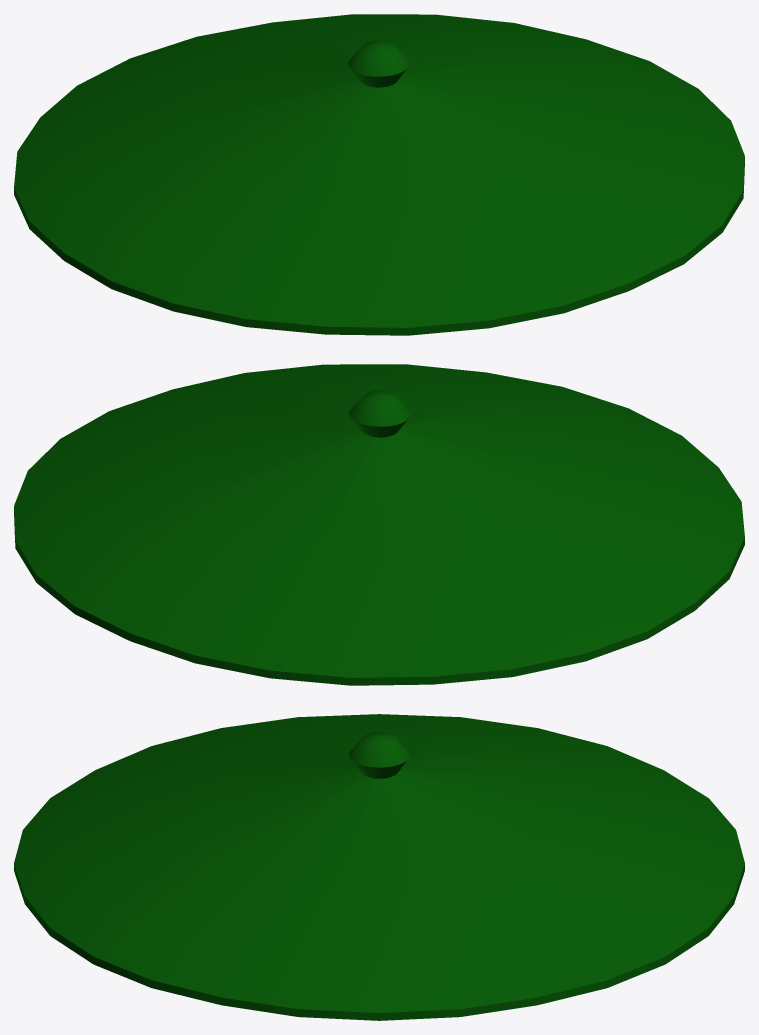
The model's file is jug13a.FBX.
The picture shows the model from 3 angles, top to bottom: view 1: azimuth 30°, elevation 25°; view 2: azimuth 150°, elevation 25°; view 3: azimuth 270°, elevation 25°; orthographic projection.
Parts seen in each view (by area): view 1: SM_jug13a_0; view 2: SM_jug13a_0; view 3: SM_jug13a_0.
Boxes of the visible parts, x1=… form: SM_jug13a_0: x1=14, y1=14, x2=744, y2=335; SM_jug13a_0: x1=14, y1=364, x2=744, y2=685; SM_jug13a_0: x1=14, y1=714, x2=744, y2=1020.
Bounding box in the file's own units: 42.17 × 42.25 × 8.84.
